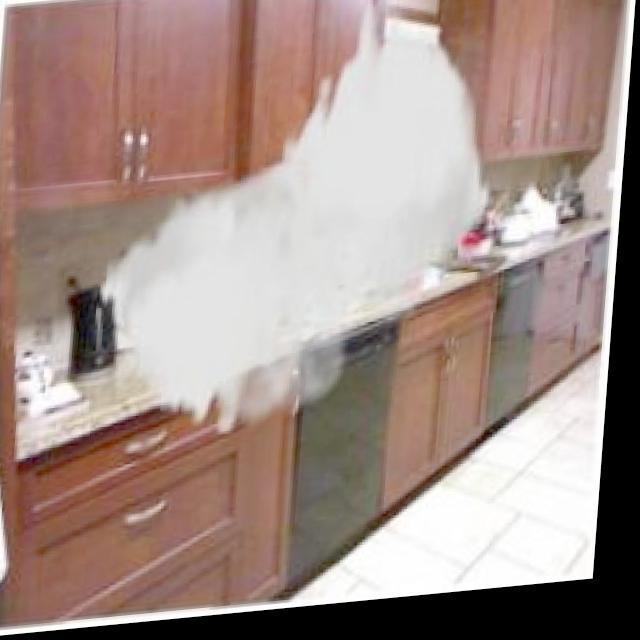Smoke: (91, 0, 508, 454)
